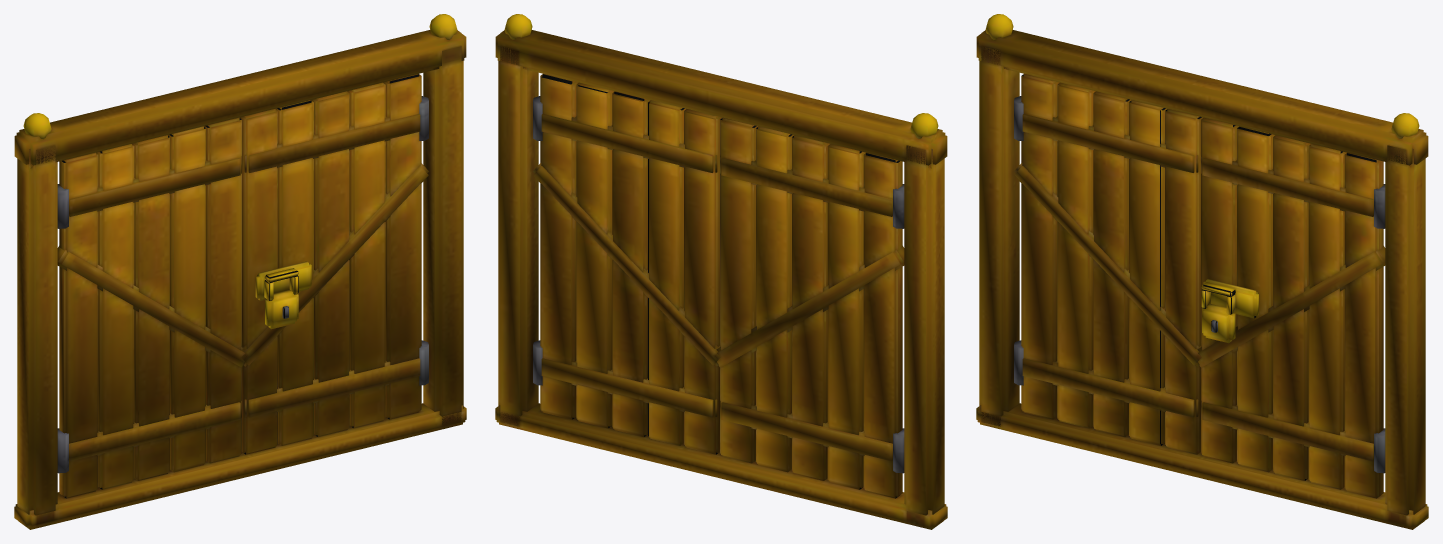
Rendered from GangwayGate.glb.
3 renders of one model, left to right at view 1: azimuth 30°, elevation 25°; view 2: azimuth 150°, elevation 25°; view 3: azimuth 330°, elevation 25°, orthographic.
Visible parts, largest first — view 1: LeafLeft, LeafRight, Frame; view 2: LeafLeft, LeafRight, Frame; view 3: LeafRight, LeafLeft, Frame.
Boxes of the visible parts, x1,y1,x2,y2 form: LeafLeft: [57, 117, 248, 498]; LeafRight: [239, 74, 428, 454]; Frame: [14, 14, 466, 529]; LeafLeft: [716, 117, 904, 498]; LeafRight: [533, 74, 722, 454]; Frame: [495, 14, 947, 529]; LeafRight: [1197, 117, 1385, 498]; LeafLeft: [1014, 74, 1203, 454]; Frame: [976, 14, 1428, 529].
Bounding box in the file's own units: 2.45 × 2.17 × 0.25.
Materials: 1 (1 with a texture image).
